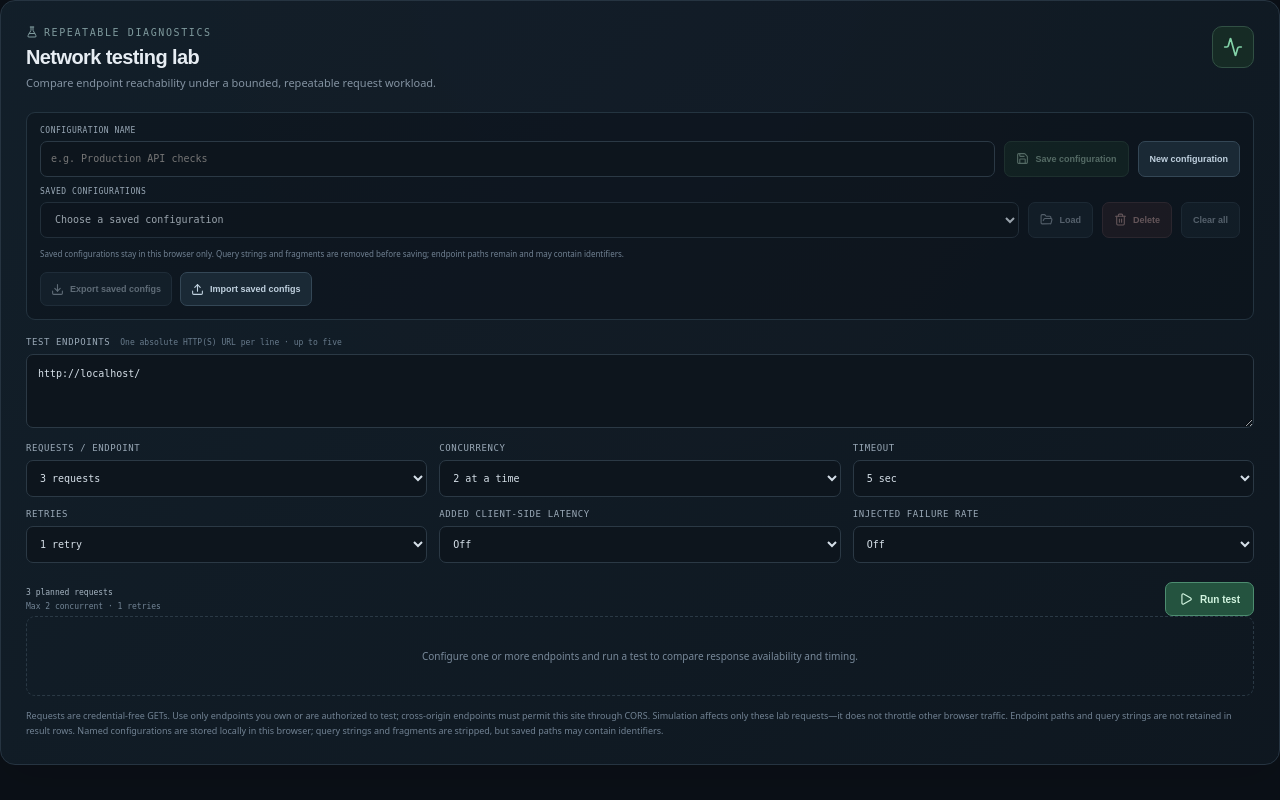
Test: saved-config destructive confirmations › requires keyboard-safe confirmation before deleting one saved config
This screenshot has width=1280, height=800.
Replace the text in the text box labelled "Test endpoints" with "https://api.example.test/health": point(640, 391) x1=26 y1=354 x2=1254 y2=428
In the field labelled "Configuration name": point(518, 159) x1=40 y1=141 x2=996 y2=177, type "Office config"
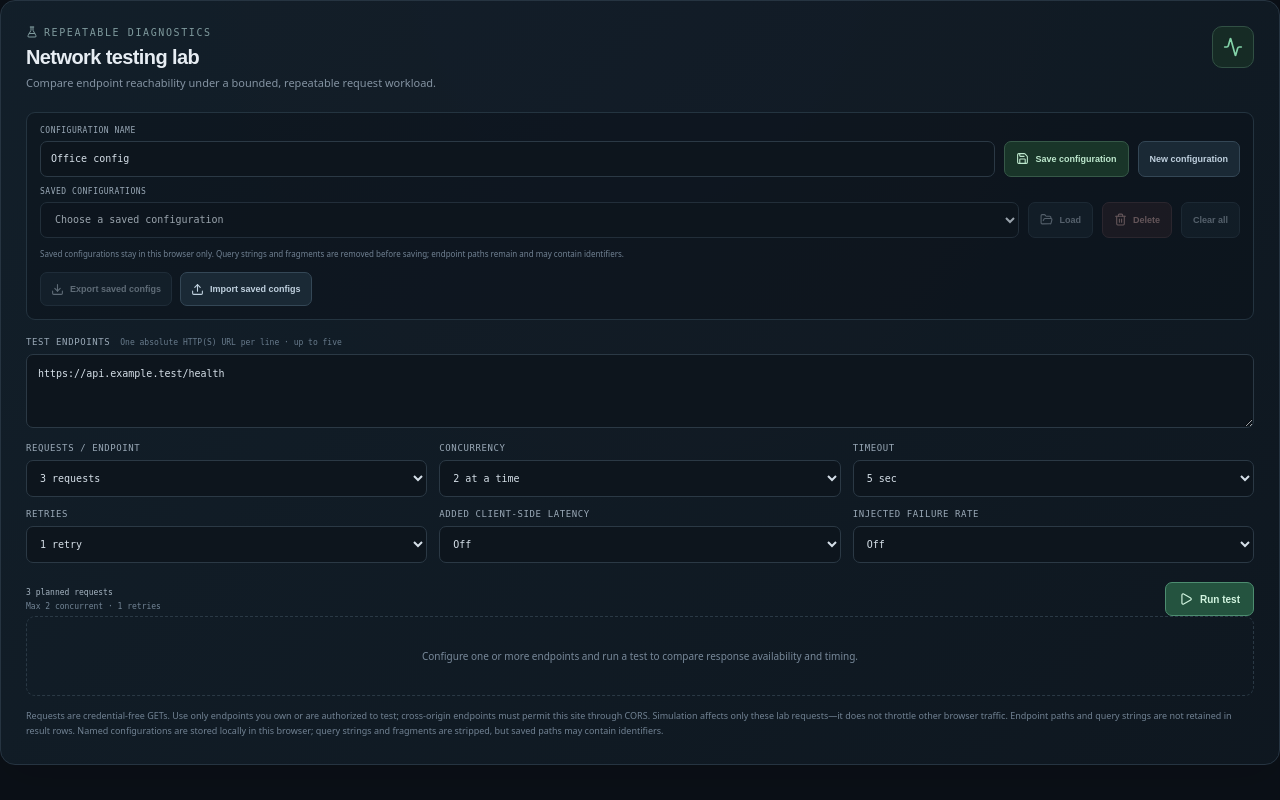
Click the button "Save configuration": point(1066, 159) x1=1004 y1=141 x2=1128 y2=177
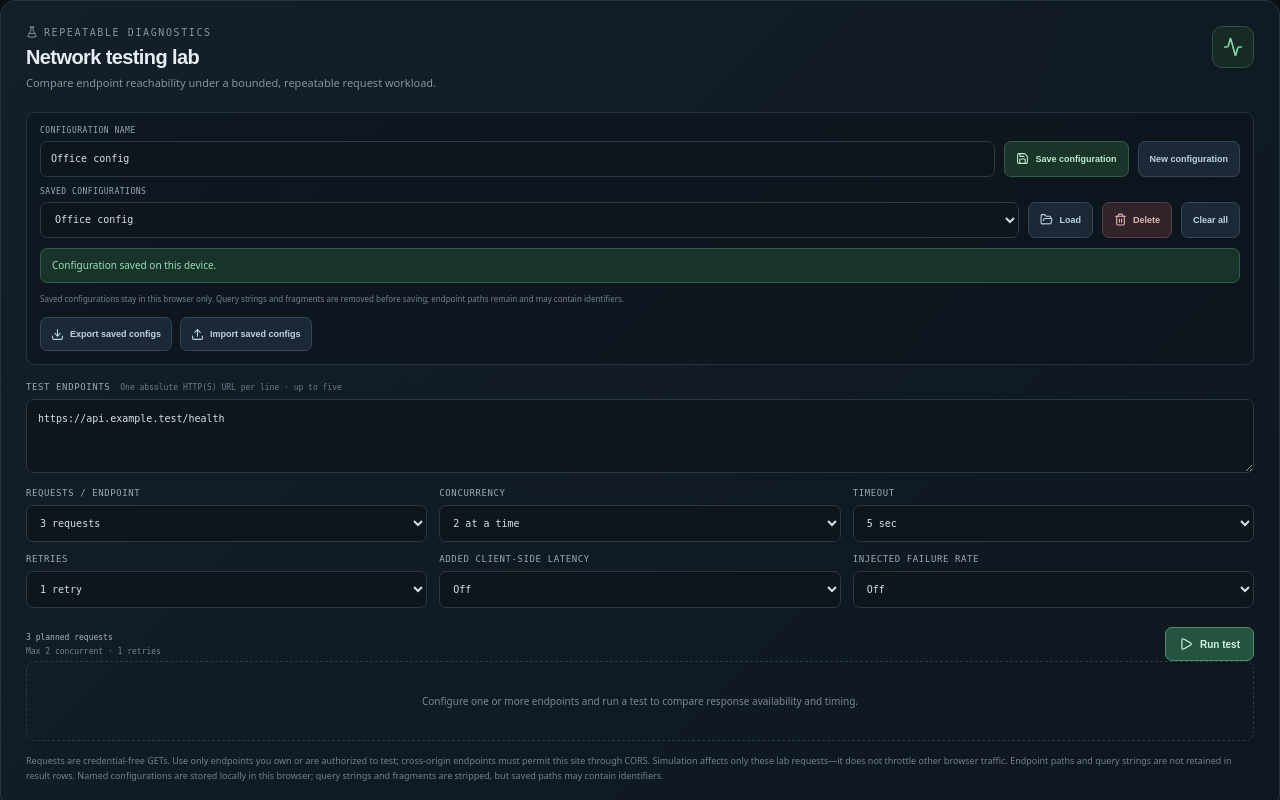
Click the button "Delete": point(1137, 220) x1=1102 y1=202 x2=1172 y2=238
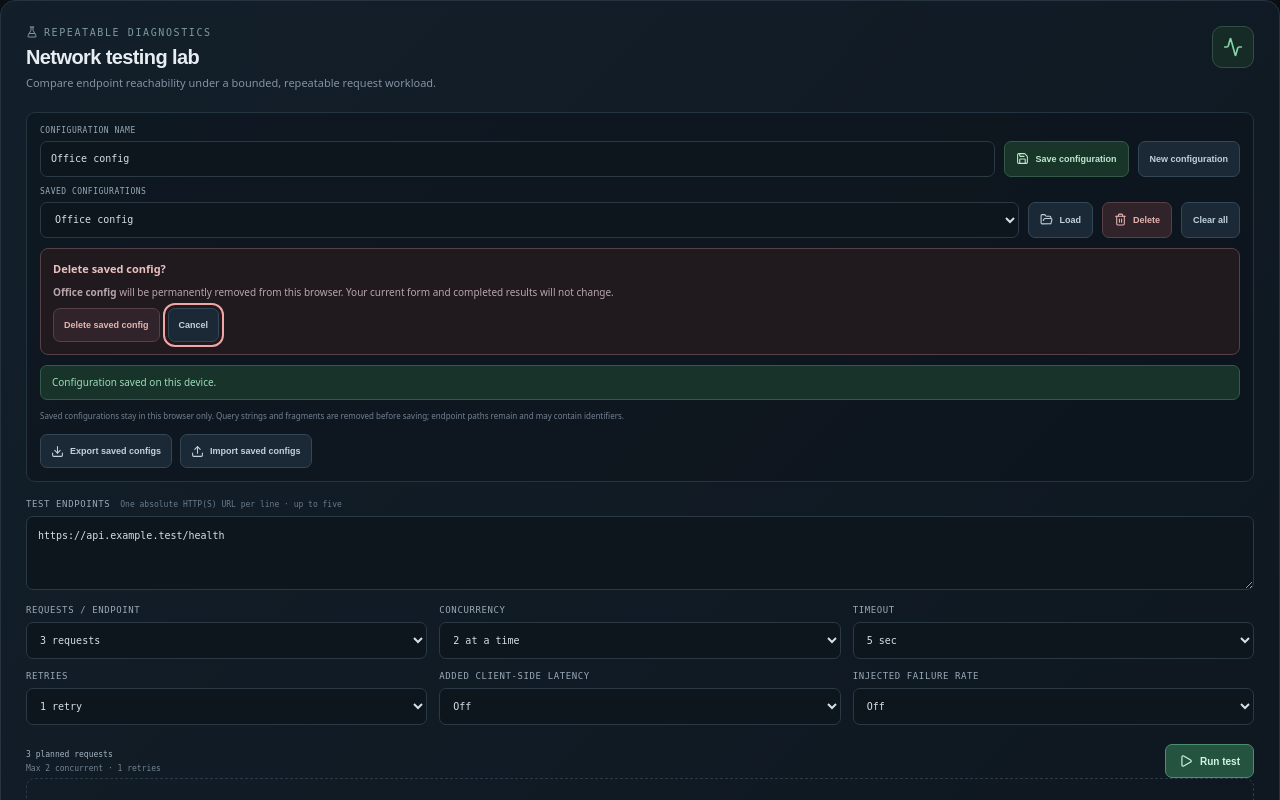
Expected: the element "Delete saved config?" is shown, x1=40 y1=248 x2=1240 y2=355
Press Escape
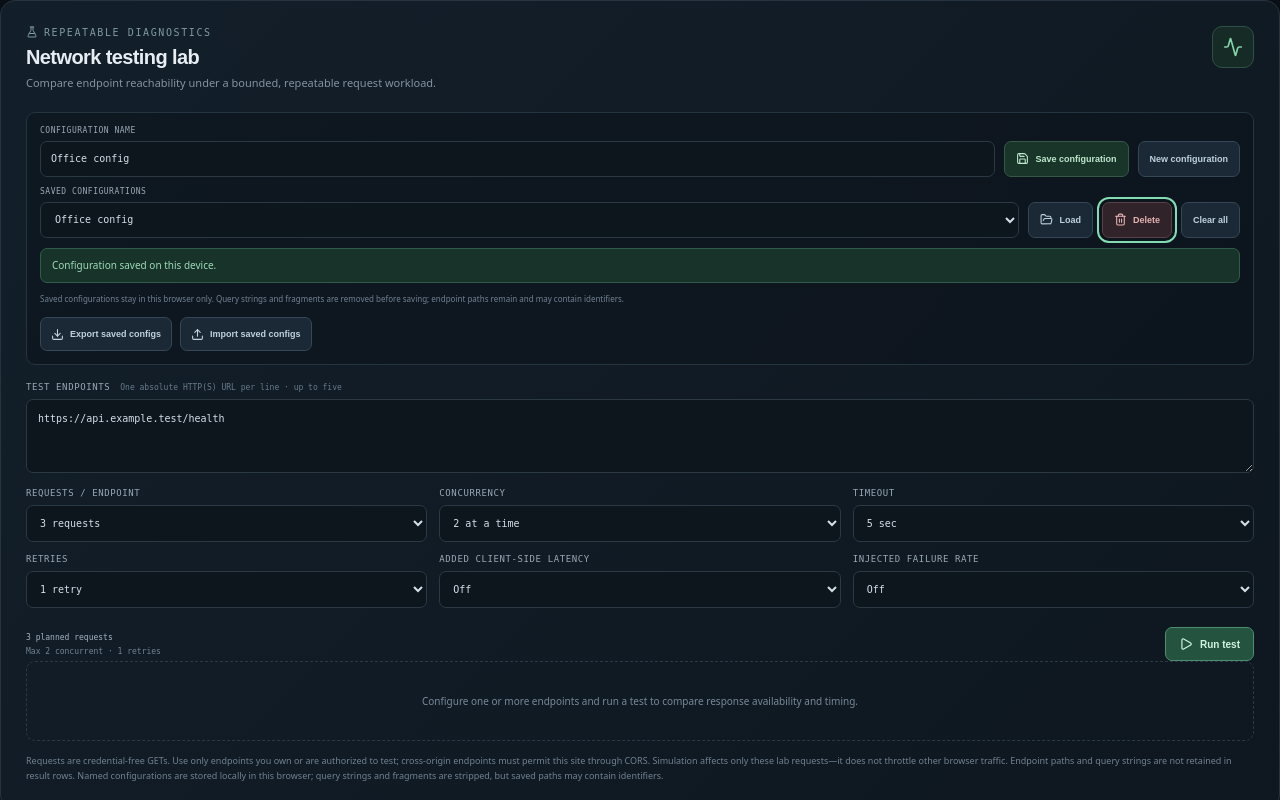
Expected: the heading "Delete saved config?" is gone
Click the button "Delete": point(1137, 220) x1=1102 y1=202 x2=1172 y2=238
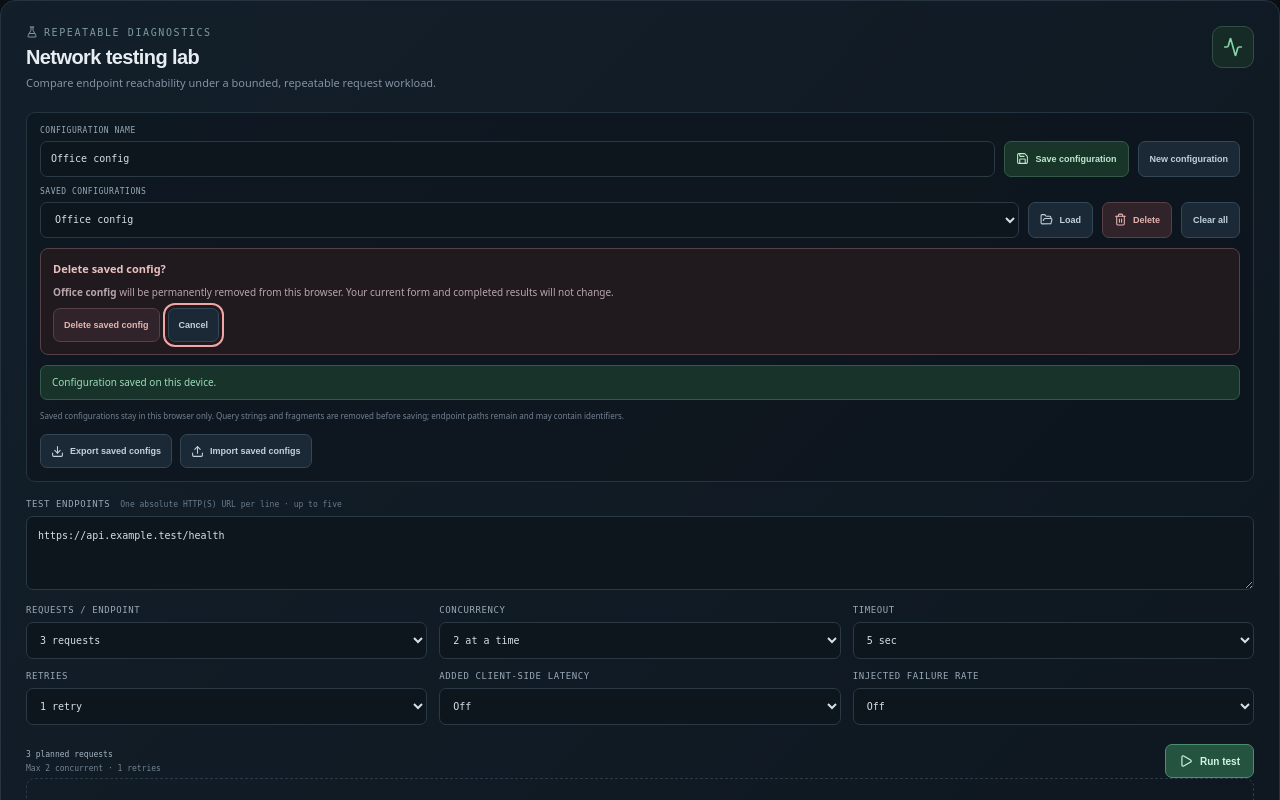
Click the button "Delete saved config": point(106, 325) x1=53 y1=308 x2=160 y2=342
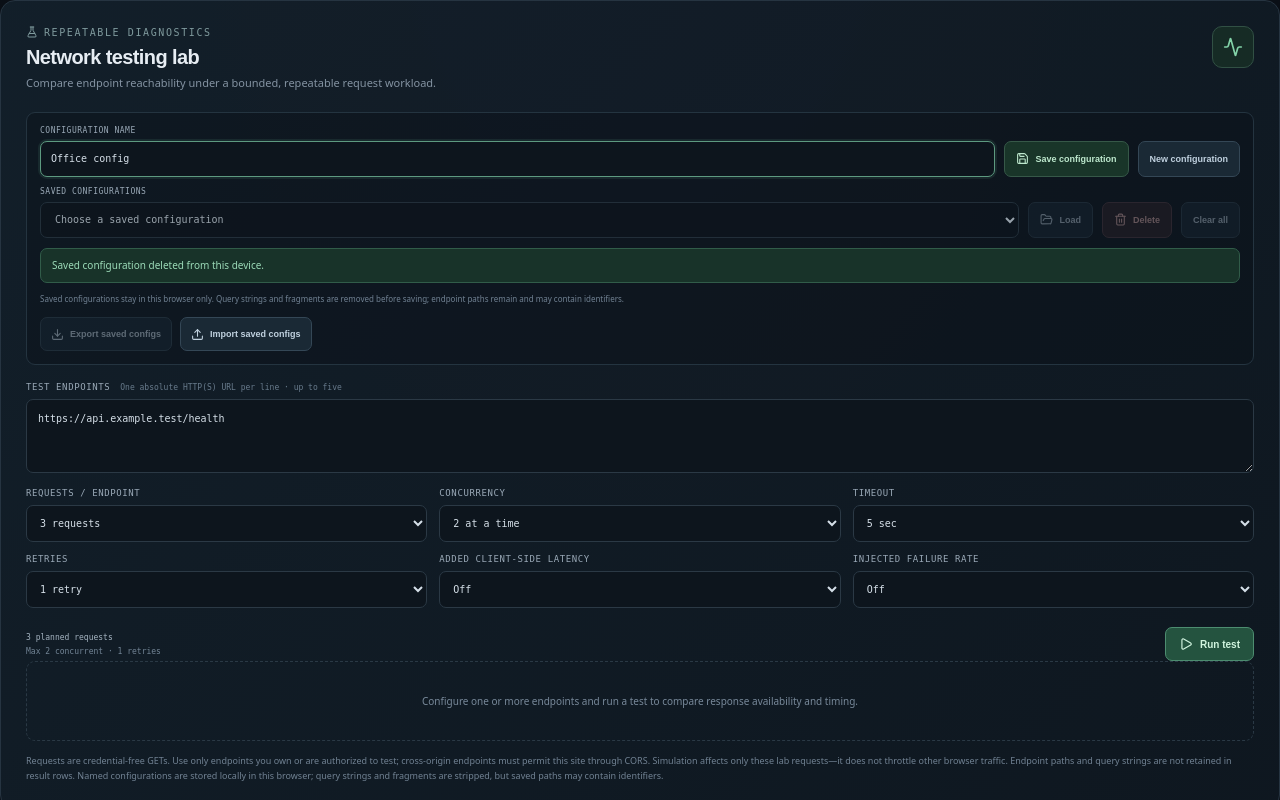
Expected: the message shows "deleted from this device", x1=52 y1=258 x2=264 y2=272
